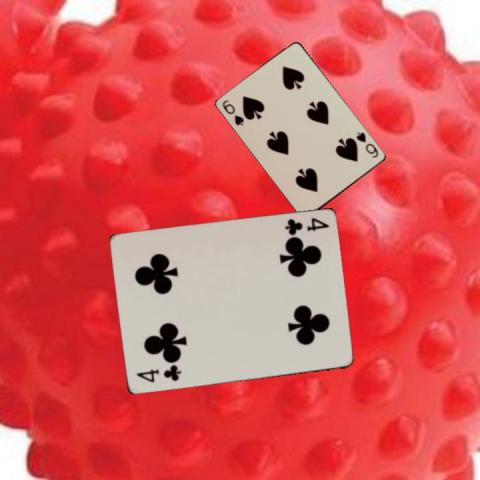4c: (281, 215, 330, 237), (133, 363, 183, 384)
6s: (353, 130, 380, 160), (219, 97, 246, 127)
